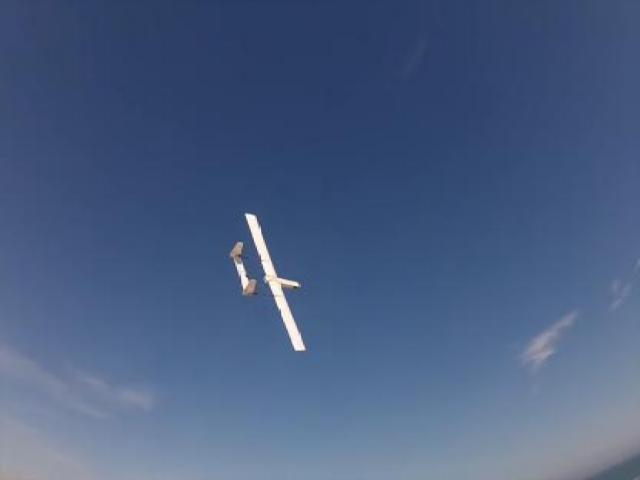uav: (229, 205, 316, 355)
